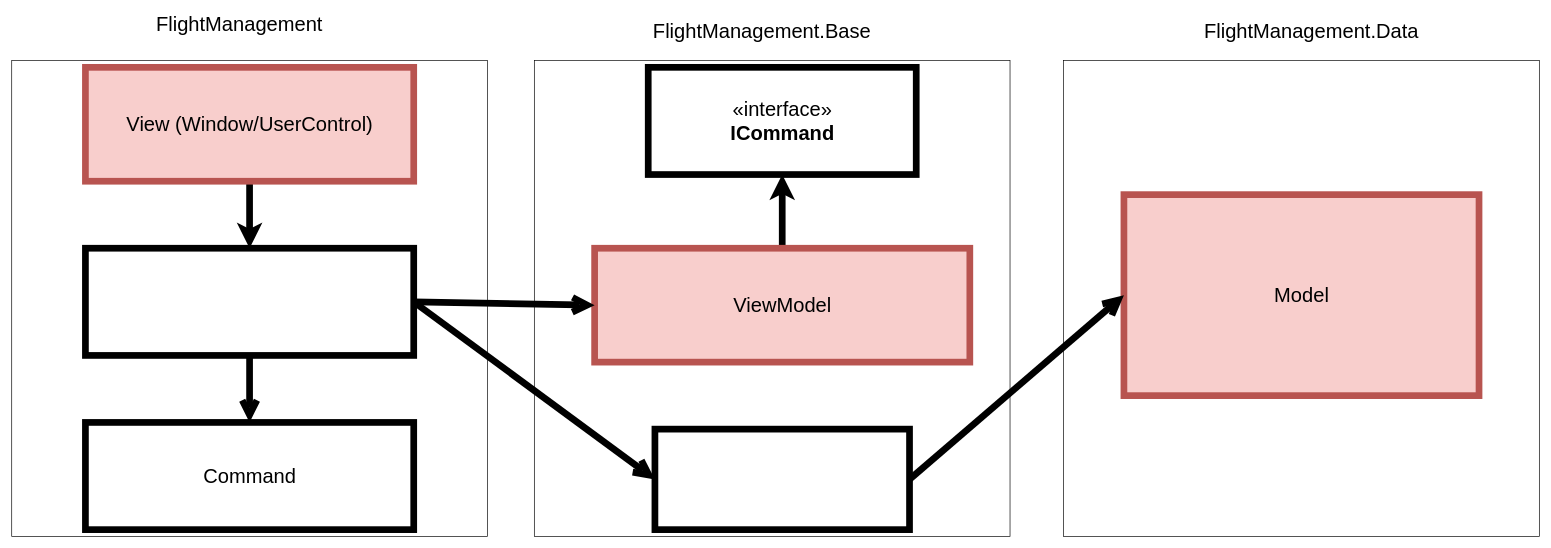
This 1551x548 diagram has some shape labels left out. The centre of each missing label's shape, as x and y in pixels:
Repository: point 782,479
View Model Factory: point 249,301
